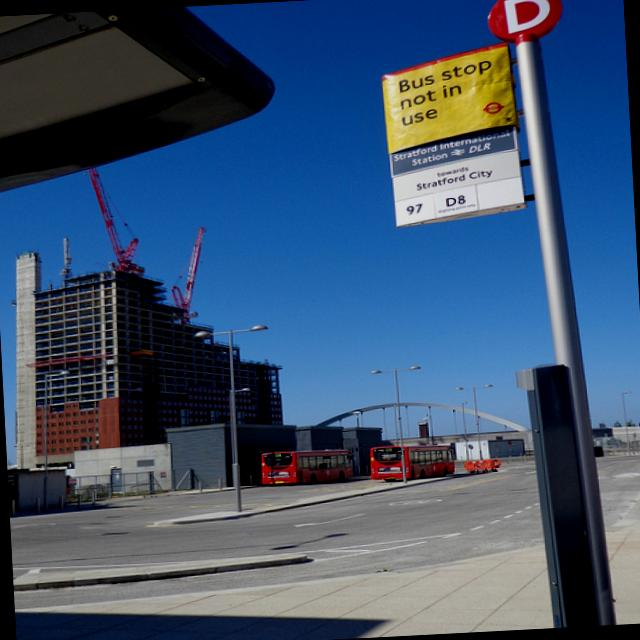Vehicle: (261, 448, 354, 486), (371, 444, 456, 484)
